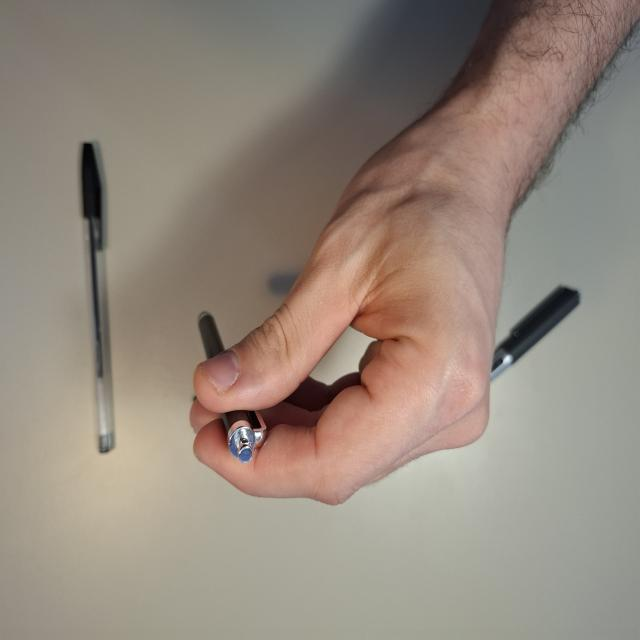glove_off: (187, 97, 516, 507)
